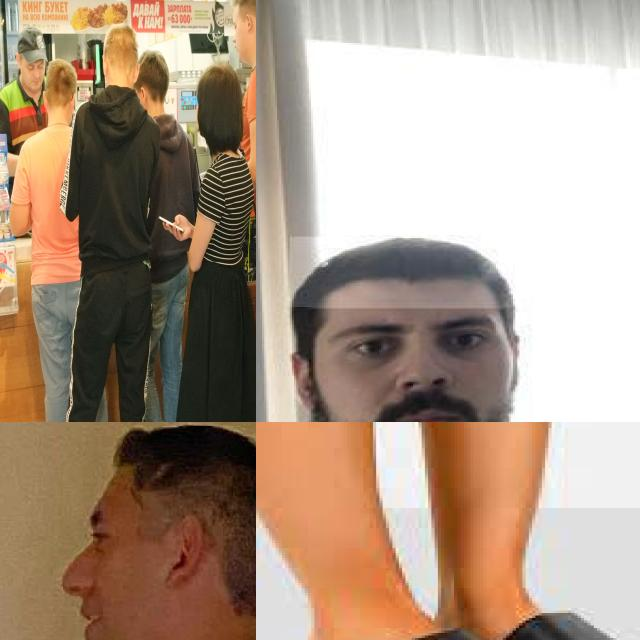No_Ear-Protection: (163, 511, 204, 590)
No_Glasses: (314, 307, 518, 378), (80, 506, 134, 566)
Sandals: (289, 597, 600, 640)
face_nomask: (309, 307, 511, 422)
head_nohelmet: (290, 236, 532, 308)
